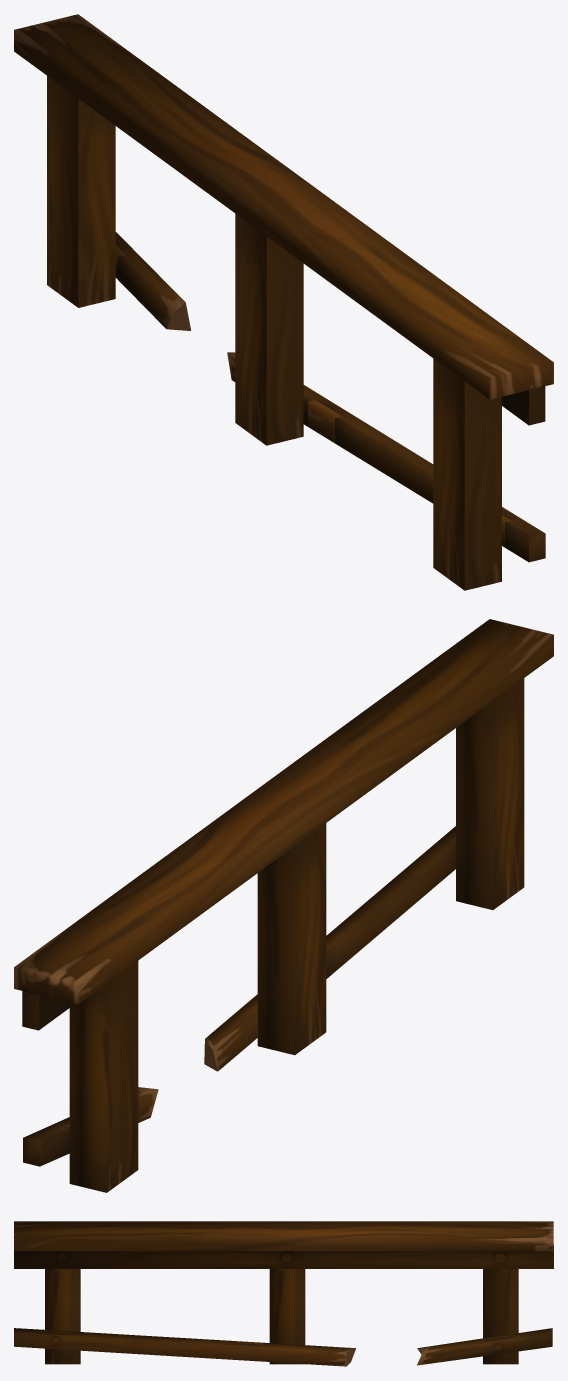
The model's file is Zabor_02.fbx.
The picture shows the model from 3 angles, top to bottom: view 1: azimuth 30°, elevation 25°; view 2: azimuth 150°, elevation 25°; view 3: azimuth 270°, elevation 25°; orthographic projection. The views are drawn at different scales.
Parts seen in each view (by area): view 1: Model; view 2: Model; view 3: Model.
Part boxes in pixels (<box>): Model: <box>14,14,553,590</box>; Model: <box>14,619,553,1192</box>; Model: <box>14,1221,553,1366</box>.
Bounding box in the file's own units: 1.33 × 4.63 × 17.14.
1 material, 1 textured.
